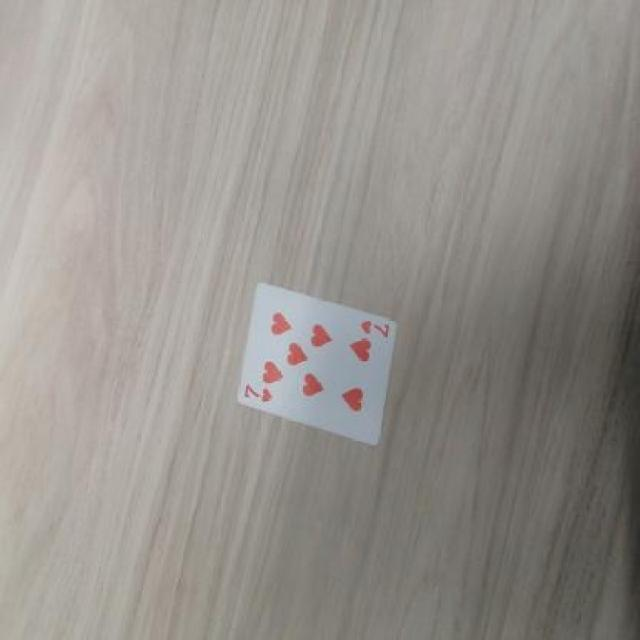7H: (352, 318, 400, 340), (243, 377, 274, 409)
